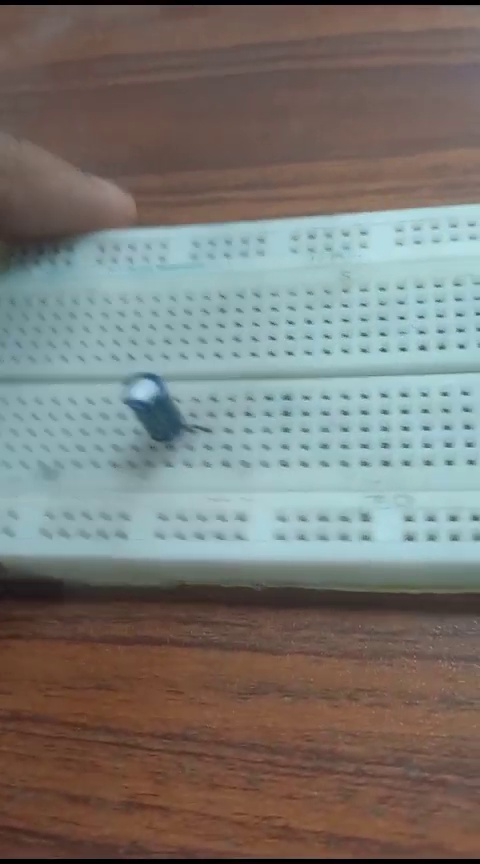capacitor: (100, 361, 188, 447)
